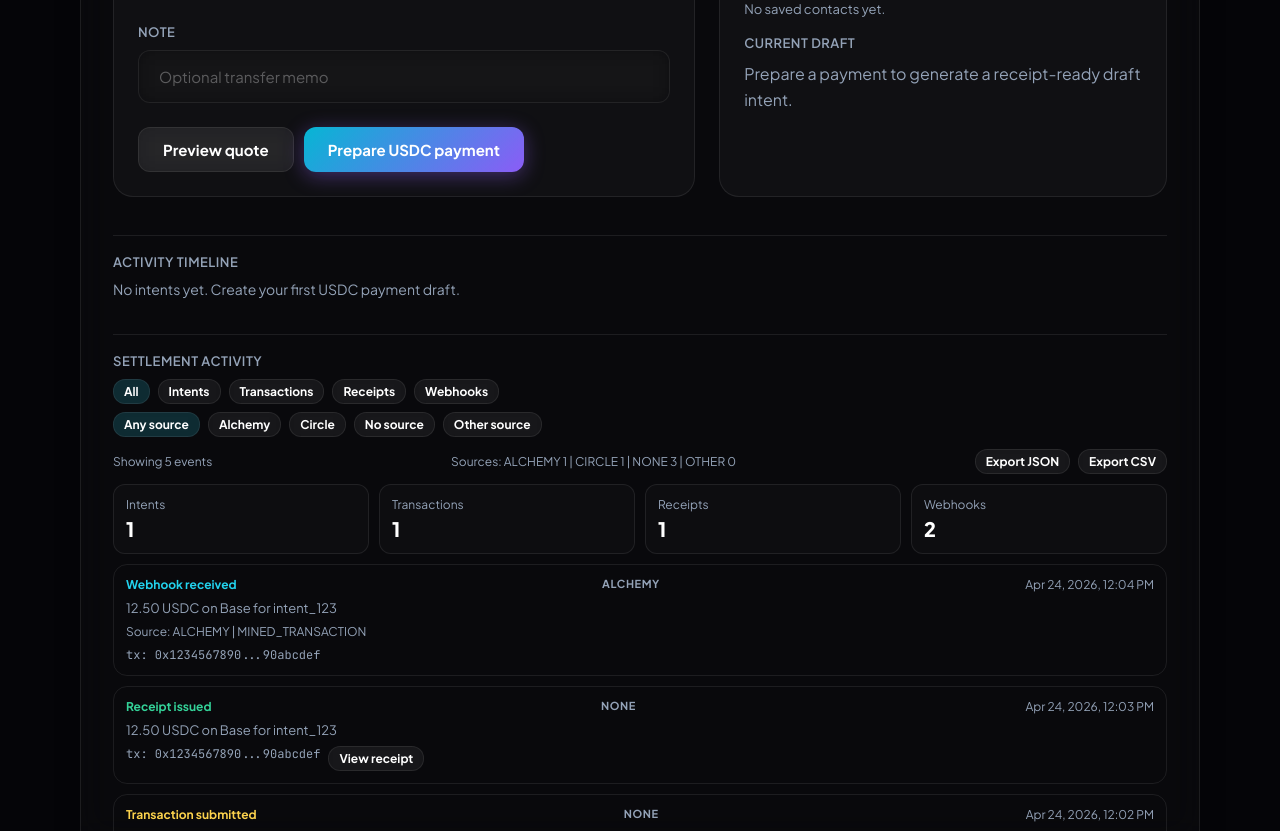
Test: ProductionWalletApp › shows activity summary stats and clears filters back to the full feed
The width and height of the screenshot is (1280, 831).
(page scrolled)
Check: the text "Showing 5 events" is shown, box [113,454,212,469]
Check: the text "Sources: ALCHEMY 1 | CIRCLE 1 | NONE 3 | OTHER 0" is shown, box [451,454,736,469]
What coordinates should you click on to do the following:
click the button "Receipts"
I would click on:
 (369, 392)
Its box is [332,379,406,404].
(page scrolled)
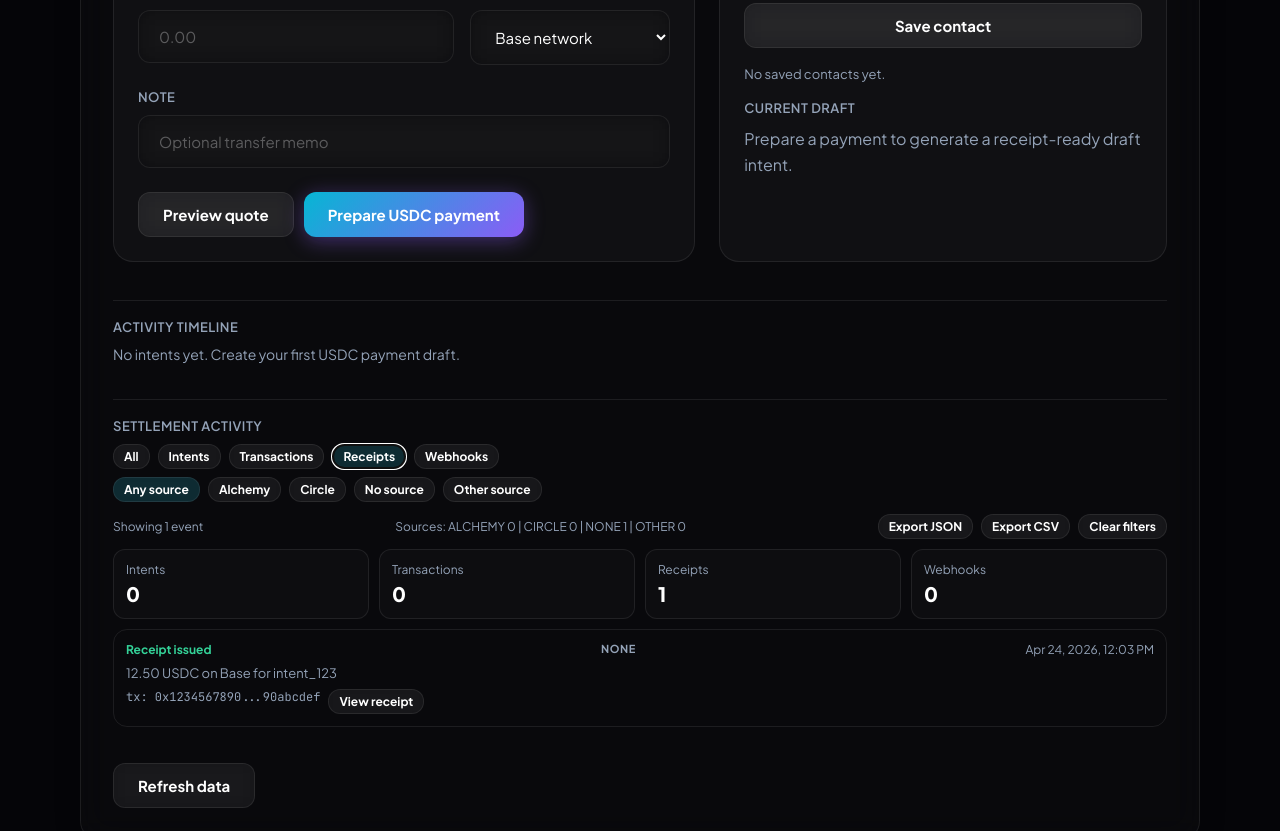
Check: the text "Showing 1 event" is shown, box [113,519,203,534]
Check: the text "Sources: ALCHEMY 0 | CIRCLE 0 | NONE 1 | OTHER 0" is shown, box [395,519,686,534]
What coordinates should you click on to do the following:
click the button "Clear filters"
I would click on:
 (1123, 527)
Its box is [1078,514,1167,539].
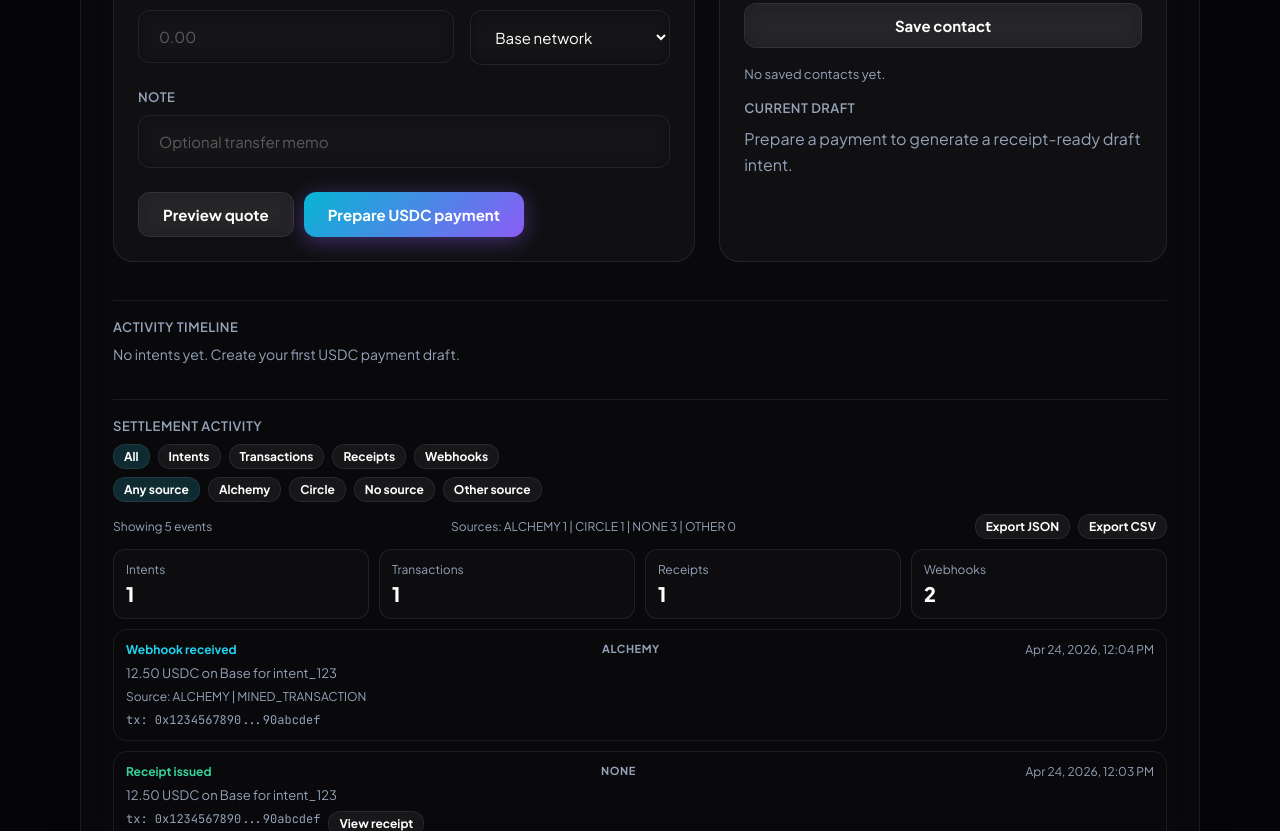
Check: the text "Showing 5 events" is shown, box [113,519,212,534]
Check: the text "Sources: ALCHEMY 1 | CIRCLE 1 | NONE 3 | OTHER 0" is shown, box [451,519,736,534]
Check: the button "Clear filters" is gone
